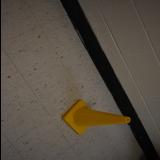cone: (61, 100, 129, 134)
